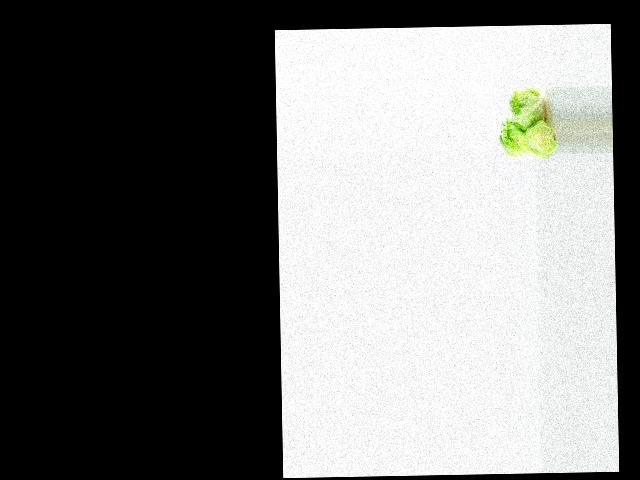lettuce: (495, 115, 530, 158)
